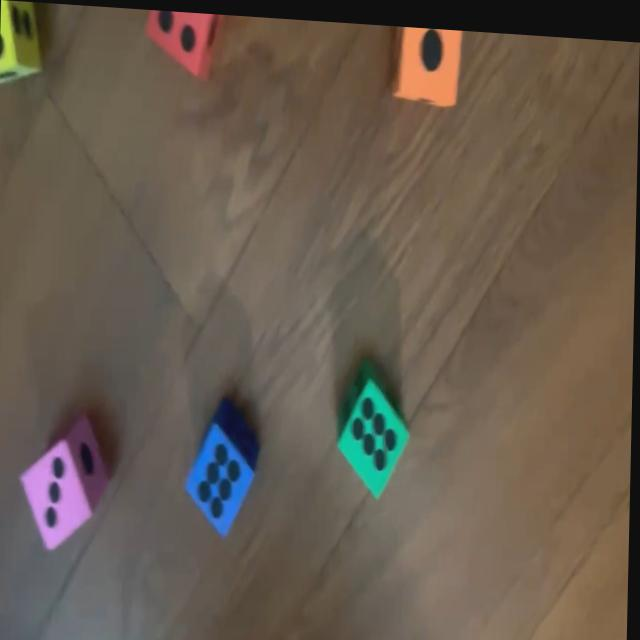cube: (336, 353, 411, 494), (188, 396, 261, 534), (144, 8, 225, 75)
